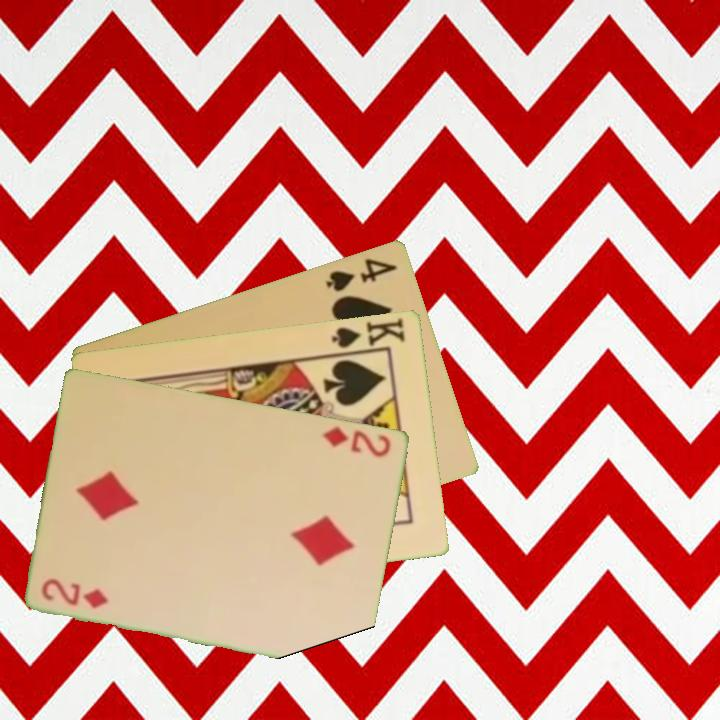2d: (319, 422, 394, 460), (38, 575, 111, 611)
4s: (322, 254, 401, 294)
Ks: (328, 313, 409, 350)
